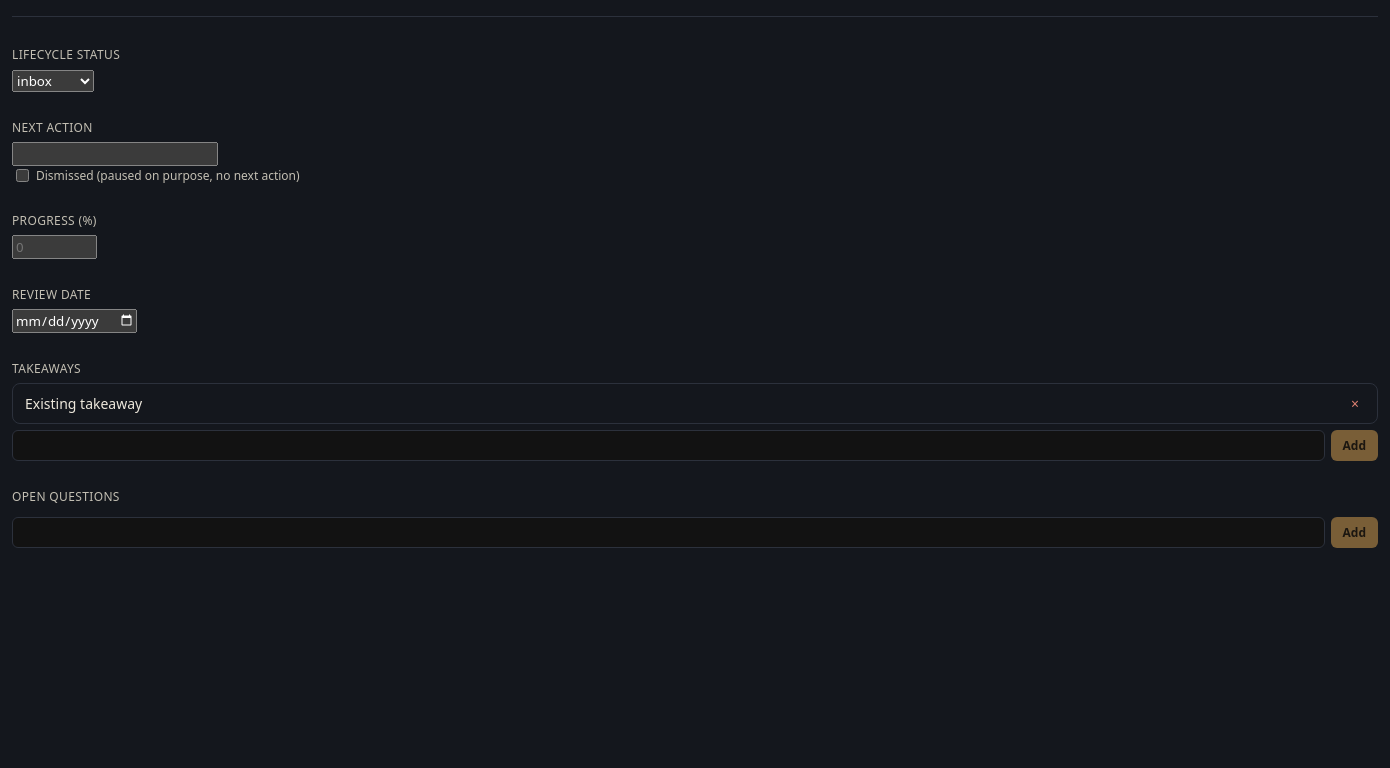
Test: ResearchDetailPanel › shows an error and does not lose the draft when the save fails
Type "Read section 3" into the field labelled "Next action". click: (115, 154)
box: [12,142,218,166]
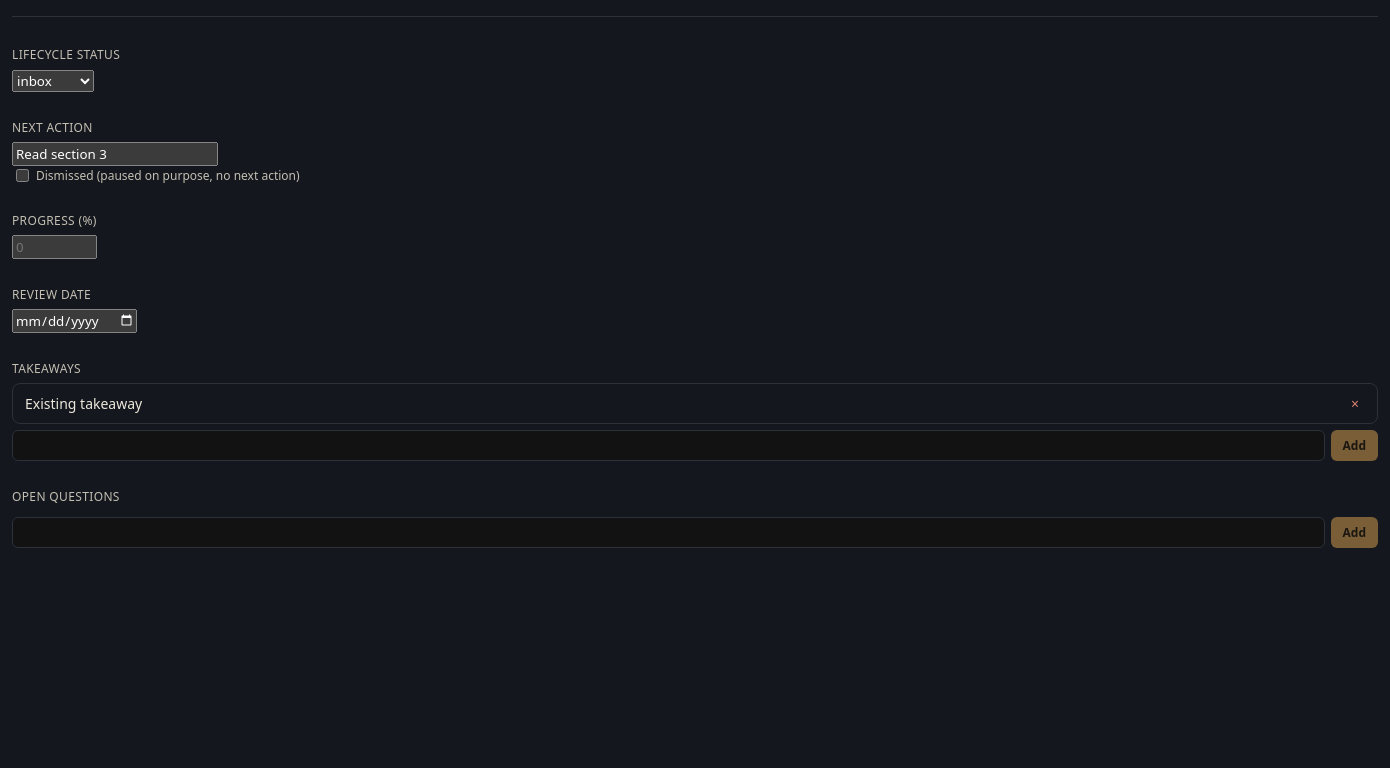
Leave the field labelled "Next action", box [12,142,218,166]
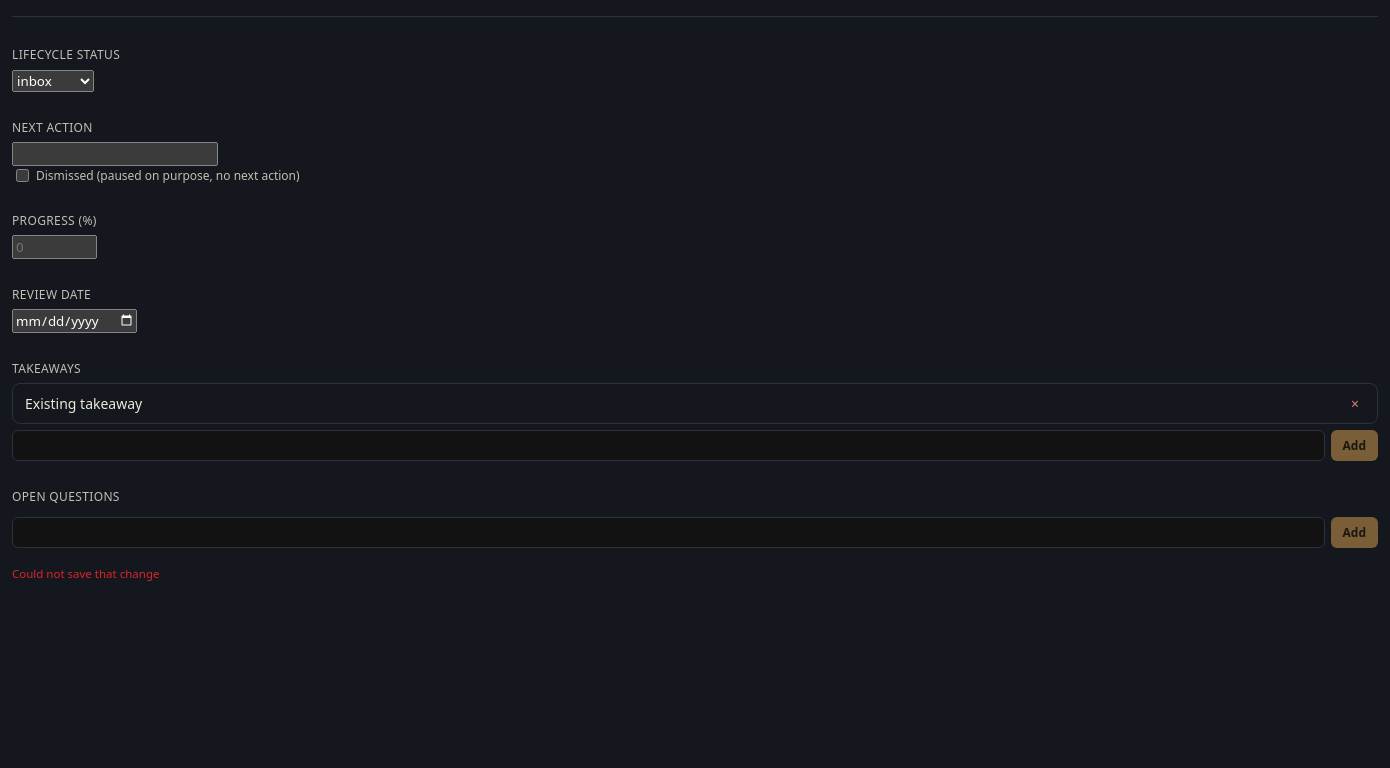
Check: the text "Could not save that change" is shown, box [12,566,160,581]
Check: the field labelled "Next action" is empty, box [12,142,218,166]
